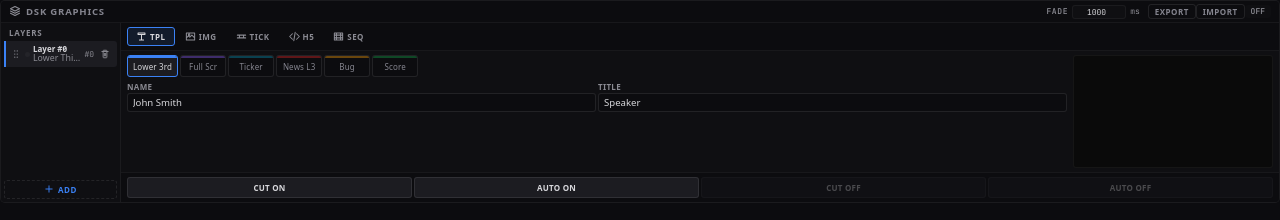
Test case: GraphicsPanel › should show image upload button after clicking IMG mode
The width and height of the screenshot is (1280, 220).
Click the button with class "mode-seg" showing "IMG". click: (201, 36)
box: x1=176 y1=27 x2=226 y2=46
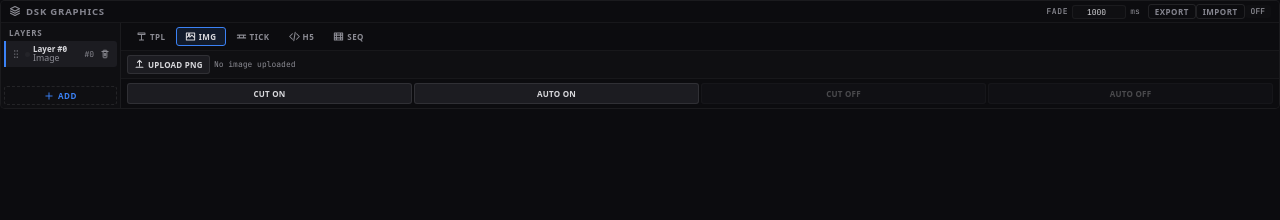
expect the button with class "act-btn" is shown: met, box x1=127 y1=55 x2=210 y2=74
